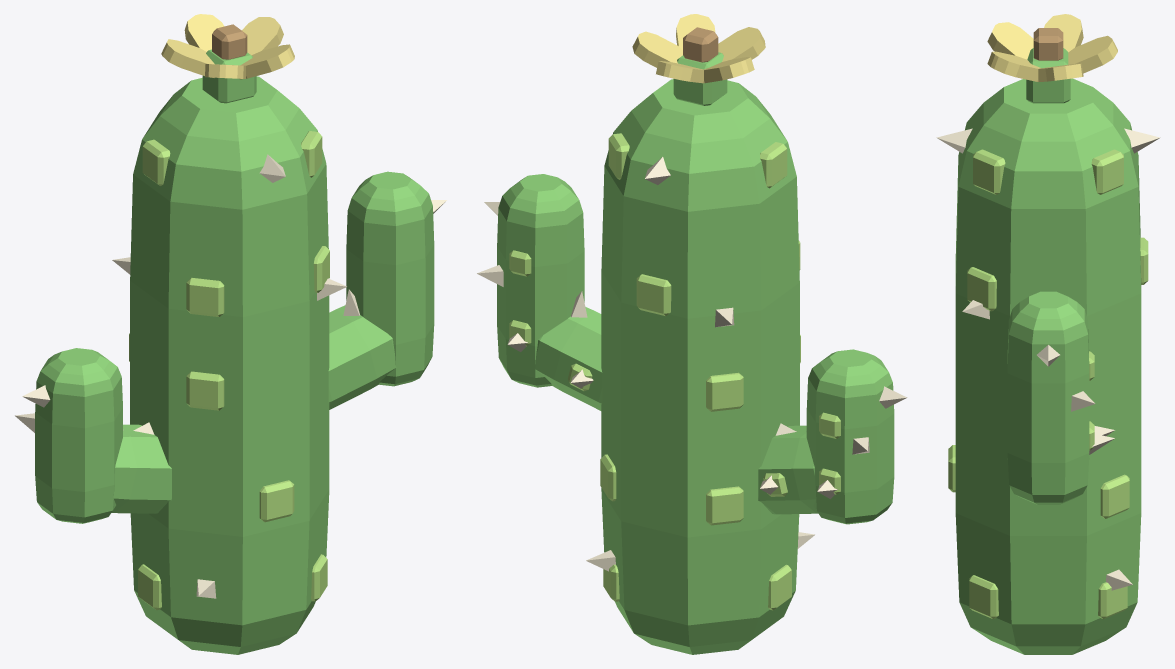
File: DesertCactusCucumber.fbx
3 renders of one model, left to right at view 1: azimuth 30°, elevation 25°; view 2: azimuth 150°, elevation 25°; view 3: azimuth 270°, elevation 25°, orthographic.
Parts seen in each view (by area): view 1: DesertCactusCucumber.Body, DesertCactusCucumber.Arms, DesertCactusCucumber.Studs, DesertCactusCucumber.Petals, DesertCactusCucumber.Spikes, DesertCactusCucumber.FlowerCentre; view 2: DesertCactusCucumber.Body, DesertCactusCucumber.Arms, DesertCactusCucumber.Studs, DesertCactusCucumber.Petals, DesertCactusCucumber.Spikes, DesertCactusCucumber.FlowerCentre; view 3: DesertCactusCucumber.Body, DesertCactusCucumber.Arms, DesertCactusCucumber.Studs, DesertCactusCucumber.Petals, DesertCactusCucumber.Spikes, DesertCactusCucumber.FlowerCentre.
Part boxes in pixels (box(x1,y1,x2,y2)): DesertCactusCucumber.Body: box(130, 49, 329, 654); DesertCactusCucumber.Arms: box(35, 171, 434, 523); DesertCactusCucumber.Studs: box(129, 131, 329, 610); DesertCactusCucumber.Petals: box(161, 14, 294, 79); DesertCactusCucumber.Spikes: box(15, 154, 446, 598); DesertCactusCucumber.FlowerCentre: box(212, 24, 247, 59); DesertCactusCucumber.Body: box(601, 52, 799, 654); DesertCactusCucumber.Arms: box(497, 174, 894, 524); DesertCactusCucumber.Studs: box(509, 133, 840, 610); DesertCactusCucumber.Petals: box(632, 14, 765, 83); DesertCactusCucumber.Spikes: box(477, 157, 907, 571); DesertCactusCucumber.FlowerCentre: box(683, 27, 718, 62); DesertCactusCucumber.Body: box(955, 48, 1141, 654); DesertCactusCucumber.Arms: box(1007, 291, 1089, 504); DesertCactusCucumber.Studs: box(948, 149, 1148, 619); DesertCactusCucumber.Petals: box(987, 14, 1117, 81); DesertCactusCucumber.Spikes: box(936, 128, 1160, 590); DesertCactusCucumber.FlowerCentre: box(1033, 28, 1063, 60).
Size of the model in its own units: 3.32 by 4.47 by 1.52.
